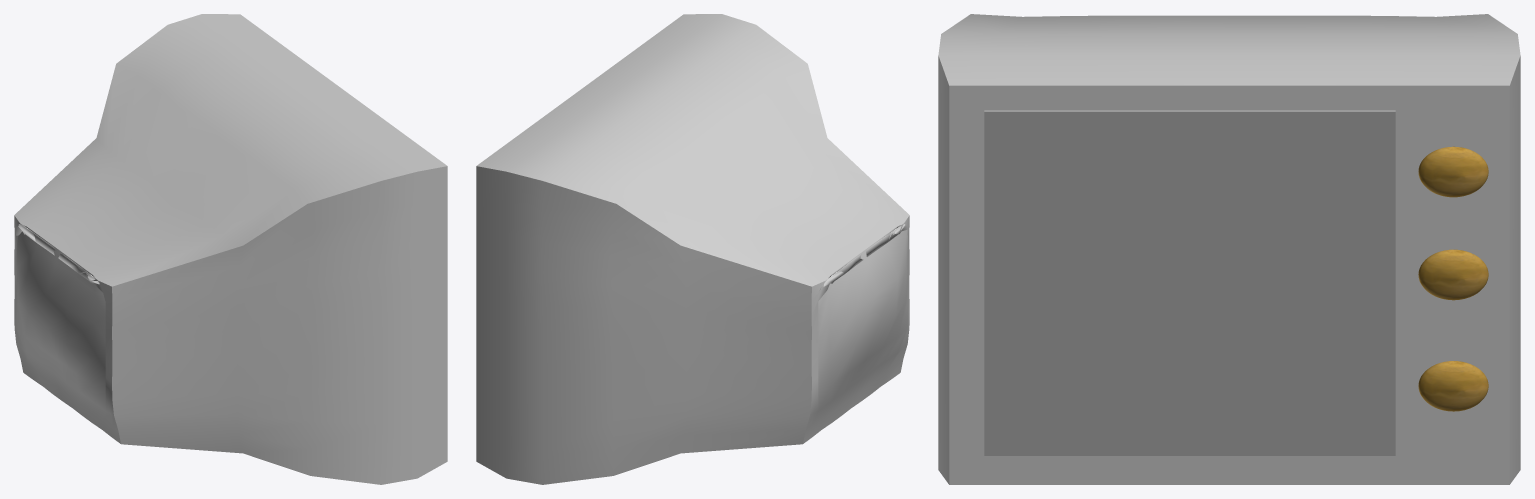
Rendered from television.fbx.
3 renders of one model, left to right at view 1: azimuth 30°, elevation 25°; view 2: azimuth 150°, elevation 25°; view 3: azimuth 270°, elevation 25°, orthographic. The views are drawn at different scales.
Parts seen in each view (by area): view 1: pCube1; view 2: pCube1; view 3: pCube2, pCube1, pSphere2, pSphere3, pSphere1.
Boxes of the visible parts, bbox=[...] form: pCube1: bbox=[14, 14, 447, 484]; pCube1: bbox=[476, 14, 909, 484]; pCube2: bbox=[984, 110, 1395, 455]; pCube1: bbox=[938, 14, 1520, 484]; pSphere2: bbox=[1418, 249, 1488, 300]; pSphere3: bbox=[1418, 361, 1488, 411]; pSphere1: bbox=[1418, 146, 1488, 197].
Size of the model in its own units: 11.02 by 10.57 by 13.45.
